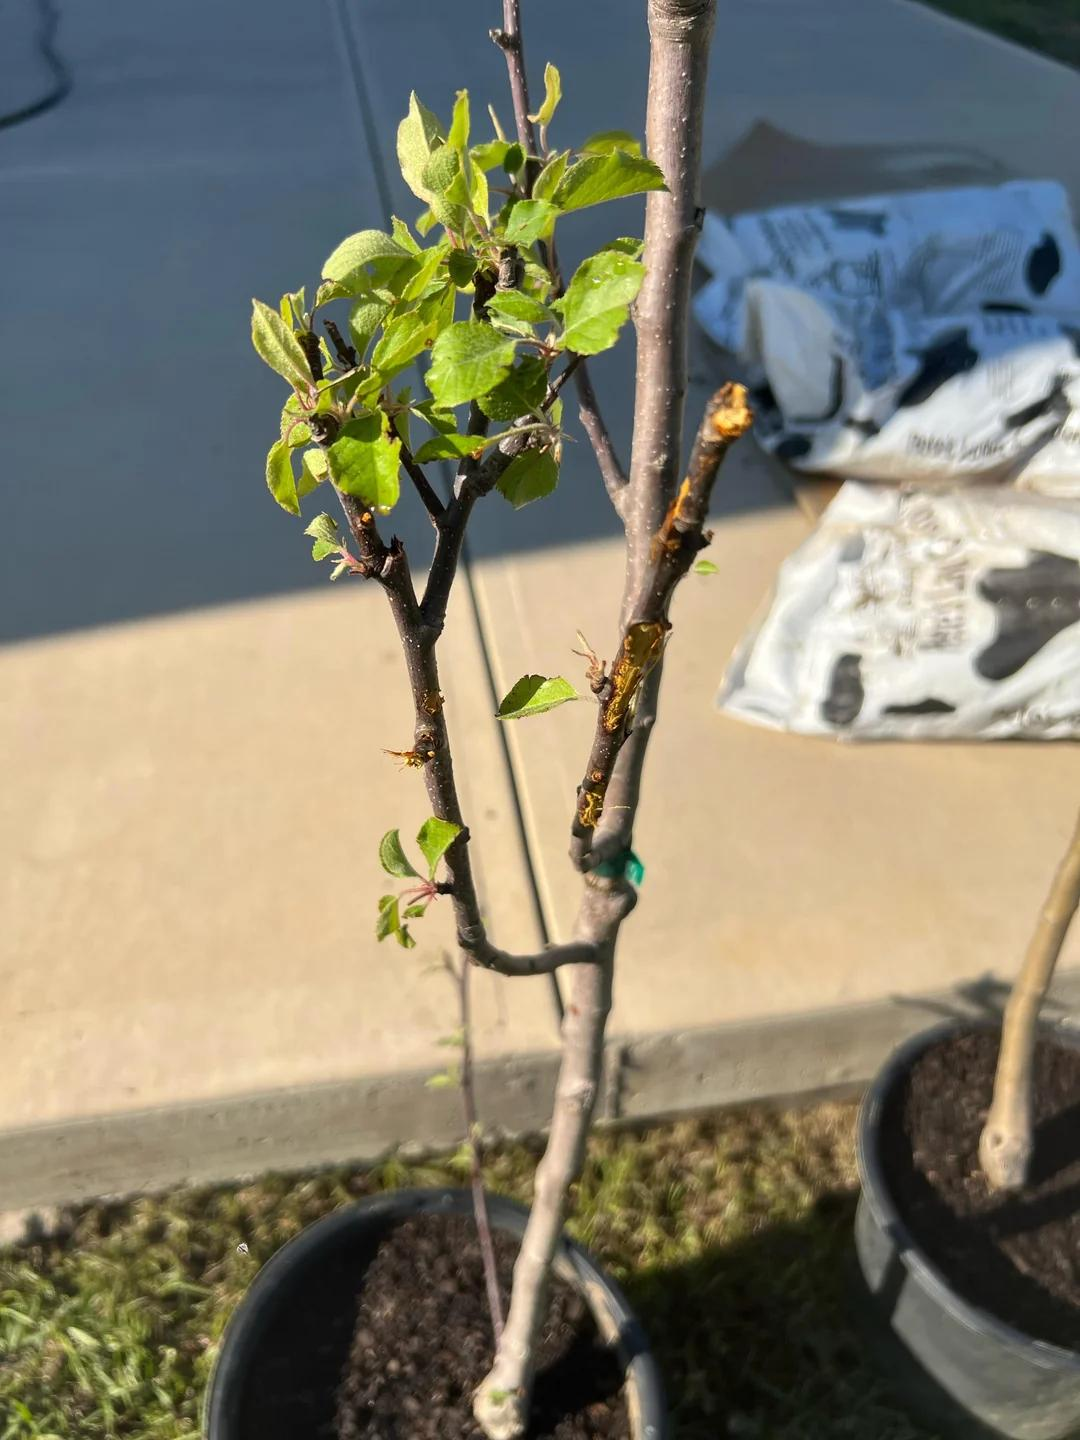mechanical damage: (574, 384, 753, 872)
